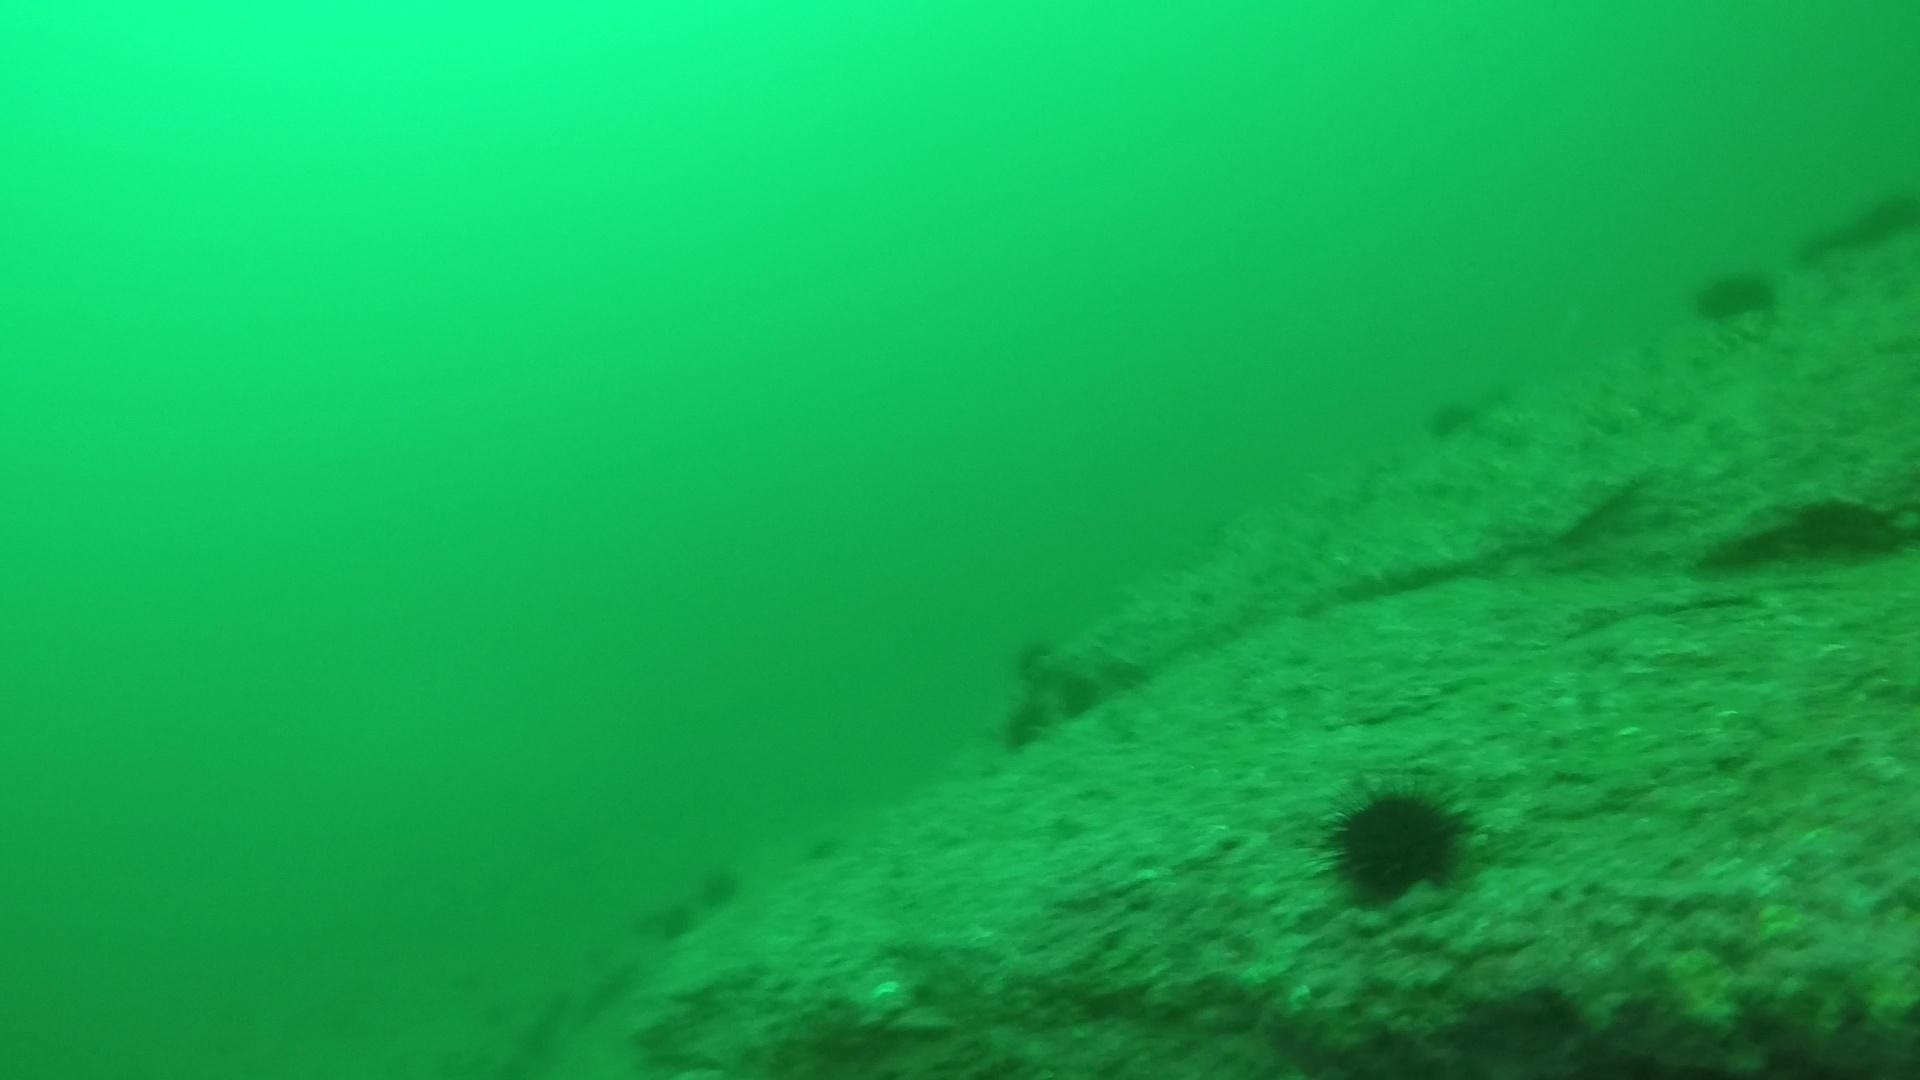echinus: (1316, 773, 1476, 909), (1689, 258, 1782, 327), (994, 683, 1065, 756), (1422, 392, 1481, 444), (694, 860, 744, 911), (1011, 638, 1063, 683)
